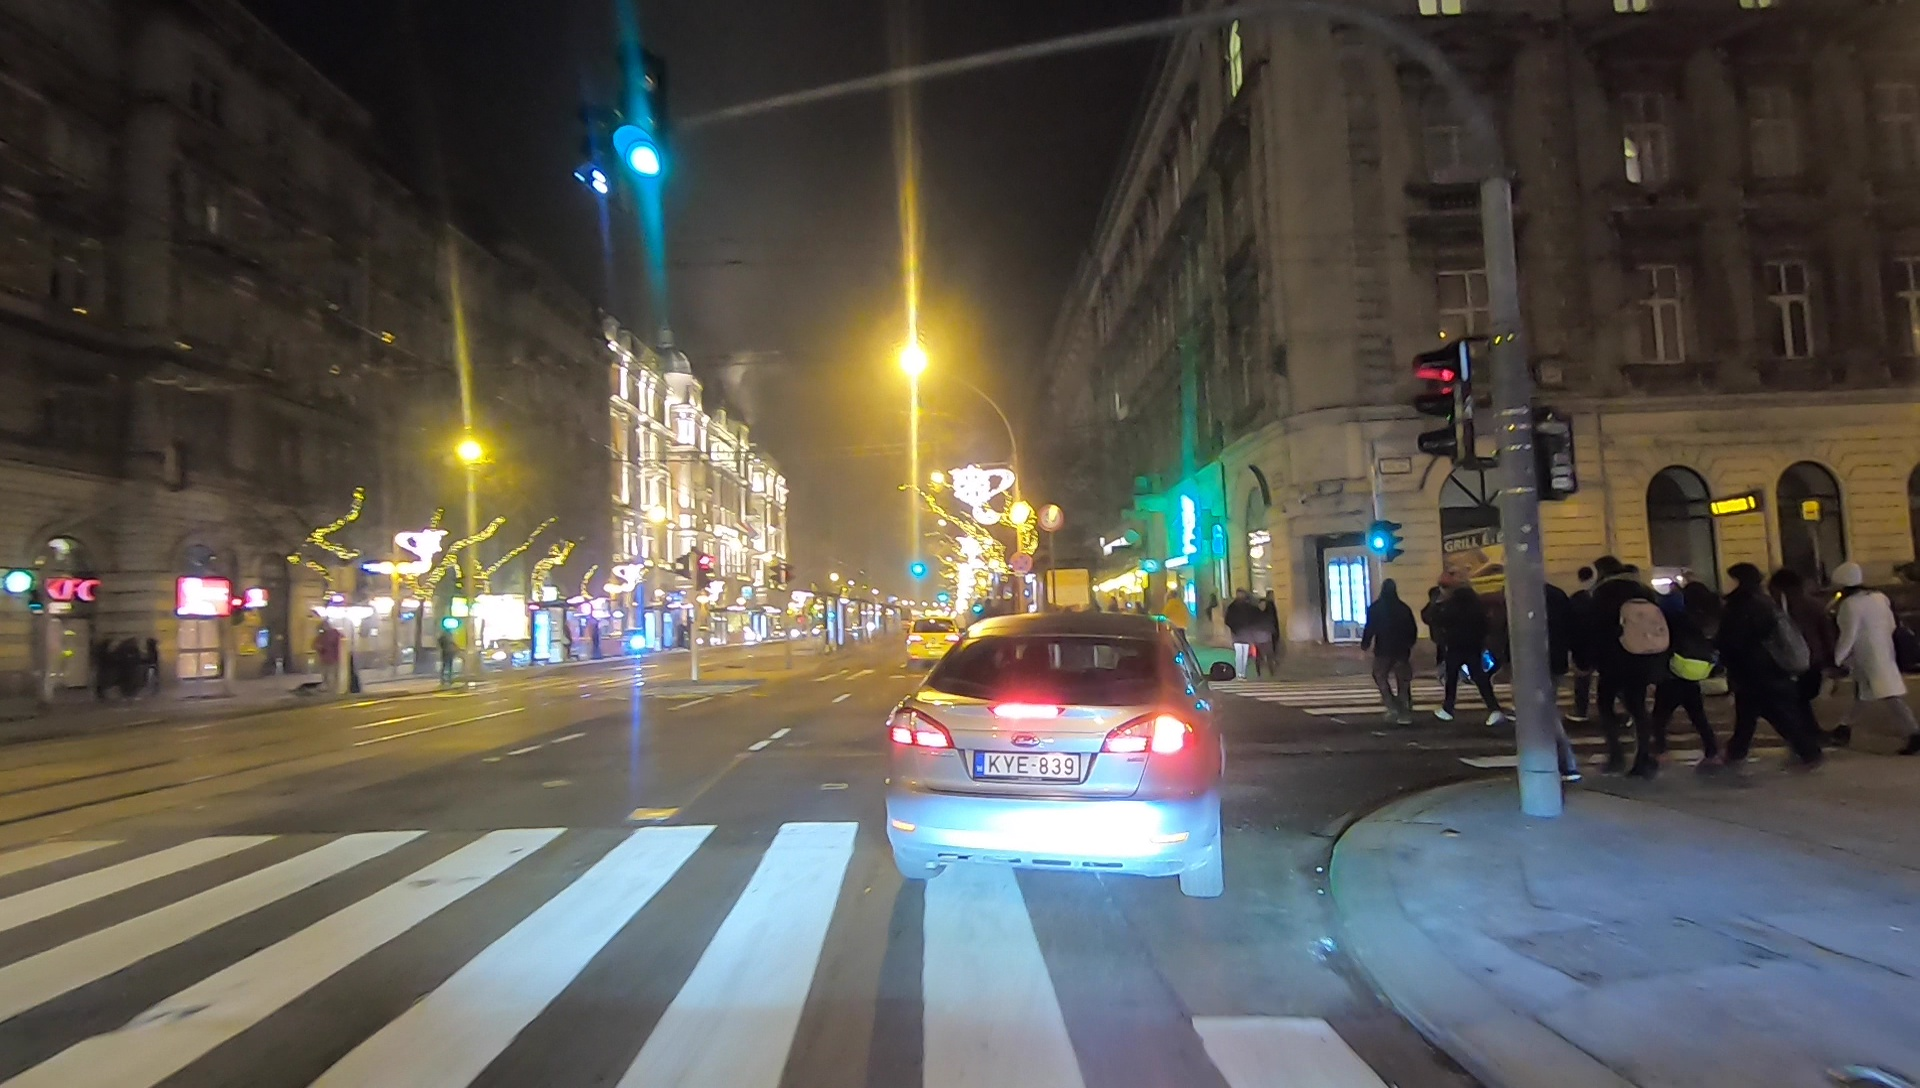person: (1721, 565, 1826, 780), (1825, 560, 1920, 750), (1651, 567, 1734, 776), (1586, 558, 1660, 776), (1426, 571, 1512, 730), (1362, 576, 1421, 721), (1228, 589, 1262, 667), (314, 621, 343, 686), (434, 628, 456, 674)
